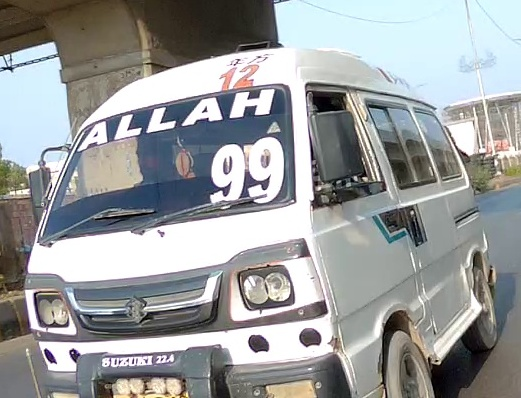van: (24, 45, 498, 398)
